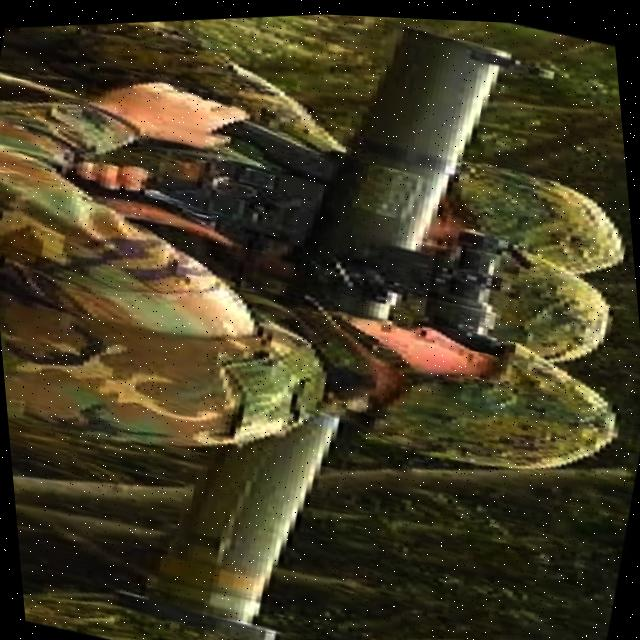rocket: (52, 2, 593, 640)
